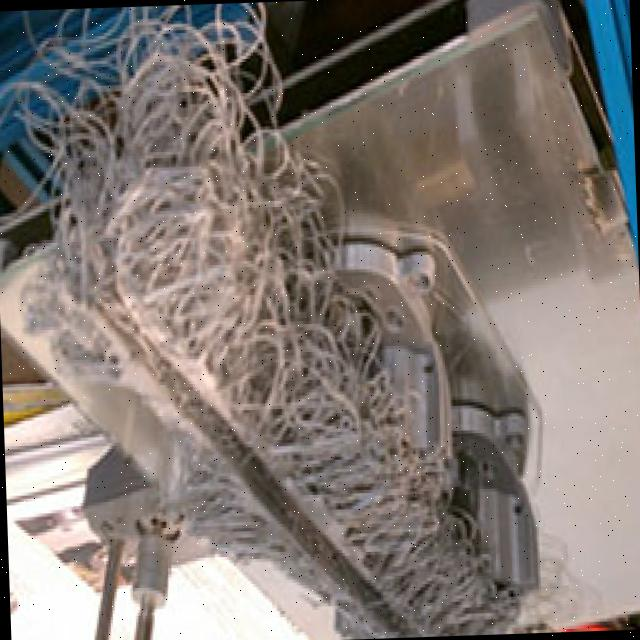spaghetti: (14, 0, 512, 640)
